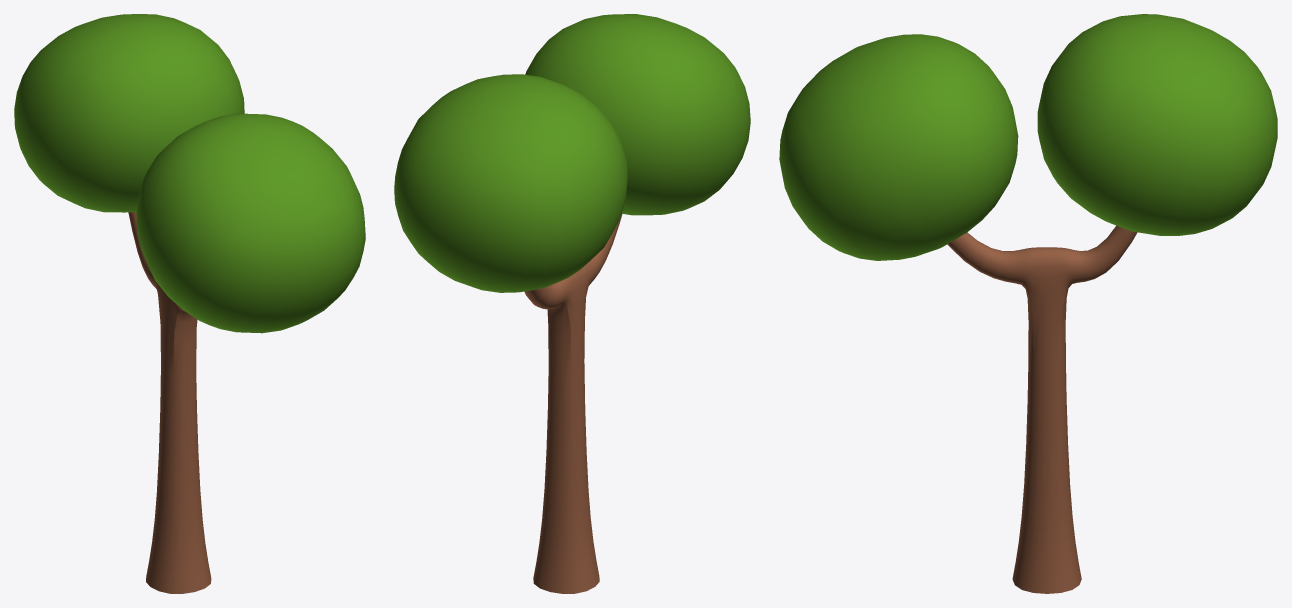
Rendered from tree4.fbx.
3 renders of one model, left to right at view 1: azimuth 30°, elevation 25°; view 2: azimuth 150°, elevation 25°; view 3: azimuth 270°, elevation 25°, orthographic. The views are drawn at different scales.
Visible parts, largest first — view 1: Cube.105; view 2: Cube.105; view 3: Cube.105.
Part boxes in pixels (x1,y1,x2,y2): Cube.105: (14,14,365,593); Cube.105: (394,14,750,593); Cube.105: (779,14,1277,593).
Size of the model in its own units: 2.15 by 4.42 by 5.41.
